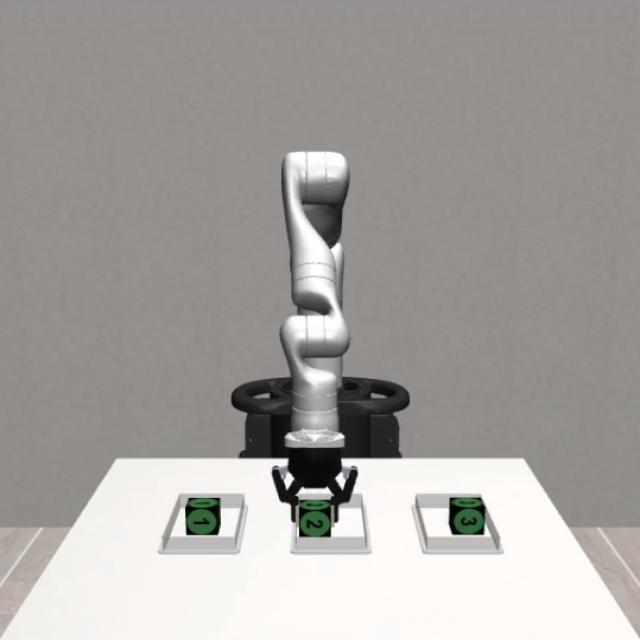cube1: (184, 497, 223, 535)
cube2: (300, 501, 331, 537)
cube3: (449, 496, 487, 536)
